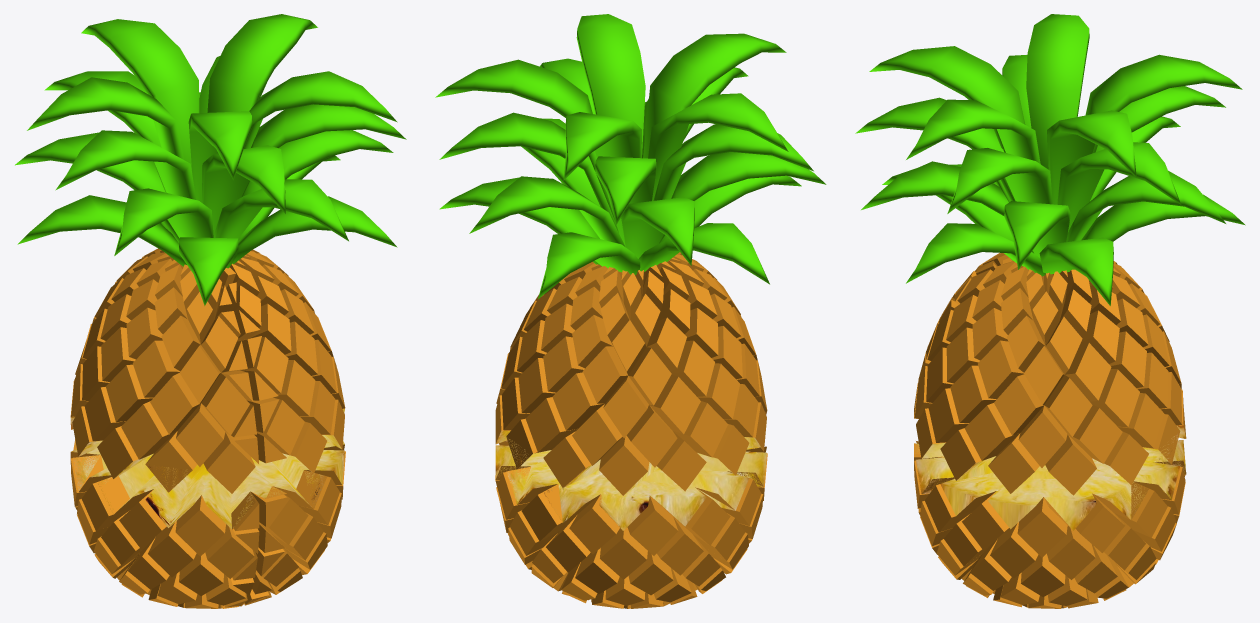
The model's file is PineappleSliced1.fbx.
3 renders of one model, left to right at view 1: azimuth 30°, elevation 25°; view 2: azimuth 150°, elevation 25°; view 3: azimuth 270°, elevation 25°, orthographic.
Parts seen in each view (by area): view 1: Плоскость, Сфера.001; view 2: Плоскость, Сфера.001; view 3: Плоскость, Сфера.001.
Part boxes in pixels (x1,y1,x2,y2): Плоскость: (15,14,406,493); Сфера.001: (70,439,345,608); Плоскость: (435,14,826,495); Сфера.001: (495,437,767,608); Плоскость: (855,14,1245,495); Сфера.001: (914,440,1186,608).
Bounding box in the file's own units: 364 × 528 × 366.
